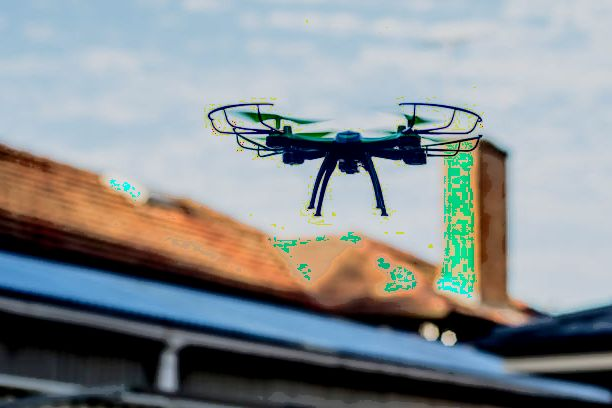Drone: (203, 93, 486, 225)
